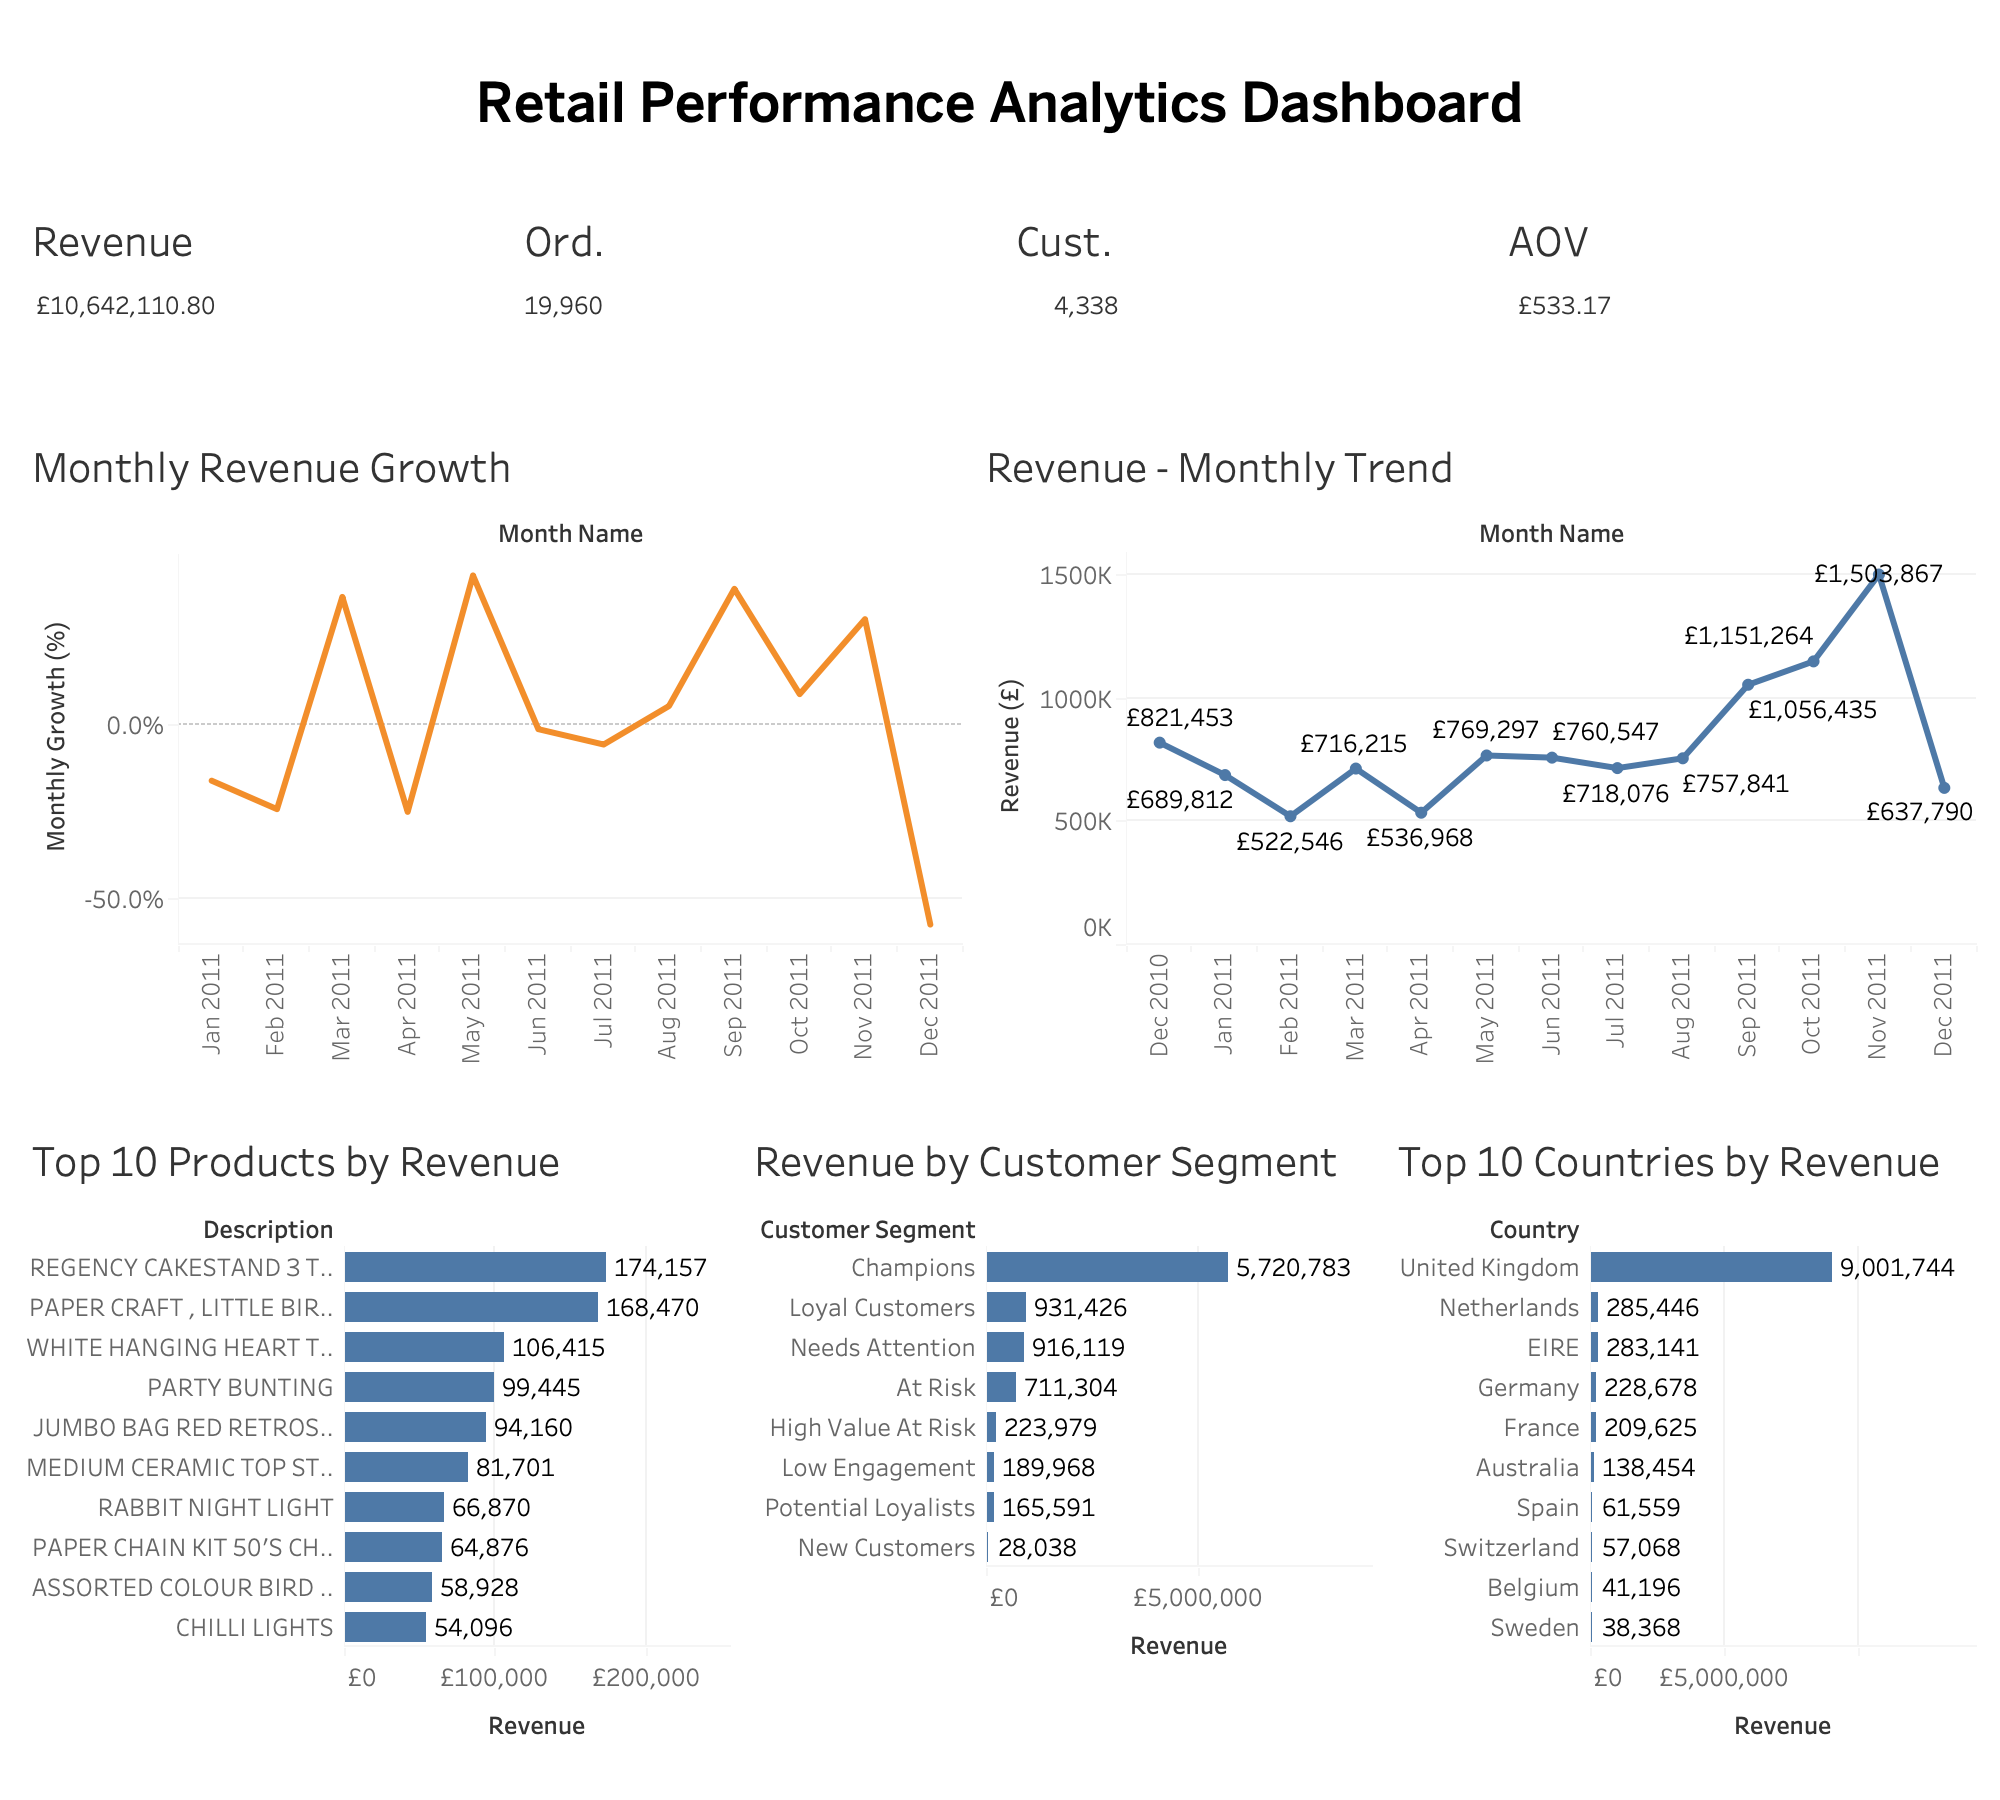

The dashboard page shown, as its layout file describes it:
{"tool":"tableau","page":{"name":"Executive Dashboard","canvas":[1000,900],"ordinal":0},"visuals":[{"type":"text","box":[8,8,984,88.5]},{"type":"worksheet","title":"Revenue","mark":"Automatic","box":[8,96,246,113]},{"type":"worksheet","title":"Ord.","mark":"Automatic","box":[254,96,246,113]},{"type":"worksheet","title":"Cust.","mark":"Automatic","box":[500,96,246,113]},{"type":"worksheet","title":"AOV","mark":"Automatic","box":[746,96,246,113]},{"type":"worksheet","title":"Revenue - Monthly Growth","mark":"Line","rows":["month_over_month_growth_pct"],"cols":["month_name"],"box":[8,209,476.8,347]},{"type":"worksheet","title":"Revenue - Monthly Trend","mark":"Line","rows":["revenue"],"cols":["month_name"],"box":[484.8,209,507.2,347]},{"type":"worksheet","title":"    Product Performance","mark":"Bar","rows":["description"],"cols":["revenue"],"box":[8,556,361.3,336]},{"type":"worksheet","title":"    Customer Segments","mark":"Bar","rows":["customer_segment"],"cols":["revenue"],"box":[369.3,556,321.3,336]},{"type":"worksheet","title":"    Country Performance","mark":"Bar","rows":["country"],"cols":["revenue"],"box":[690.7,556,301.3,336]}]}

Visuals, with their boxes in screenshot pixels (x1, y1, x2, y2), scaled from the page's 1000x900 canvas onto the 2000x1800 screenshot:
text: <box>16,16,1984,193</box>
"Revenue" worksheet: <box>16,192,508,418</box>
"Ord." worksheet: <box>508,192,1000,418</box>
"Cust." worksheet: <box>1000,192,1492,418</box>
"AOV" worksheet: <box>1492,192,1984,418</box>
"Revenue - Monthly Growth" worksheet (Line marks): <box>16,418,970,1112</box>
"Revenue - Monthly Trend" worksheet (Line marks): <box>970,418,1984,1112</box>
"    Product Performance" worksheet (Bar marks): <box>16,1112,739,1784</box>
"    Customer Segments" worksheet (Bar marks): <box>739,1112,1381,1784</box>
"    Country Performance" worksheet (Bar marks): <box>1381,1112,1984,1784</box>
